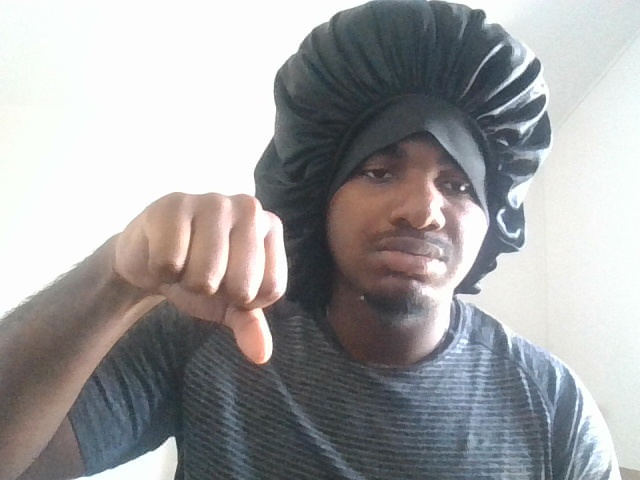Yes: (54, 163, 301, 374)
